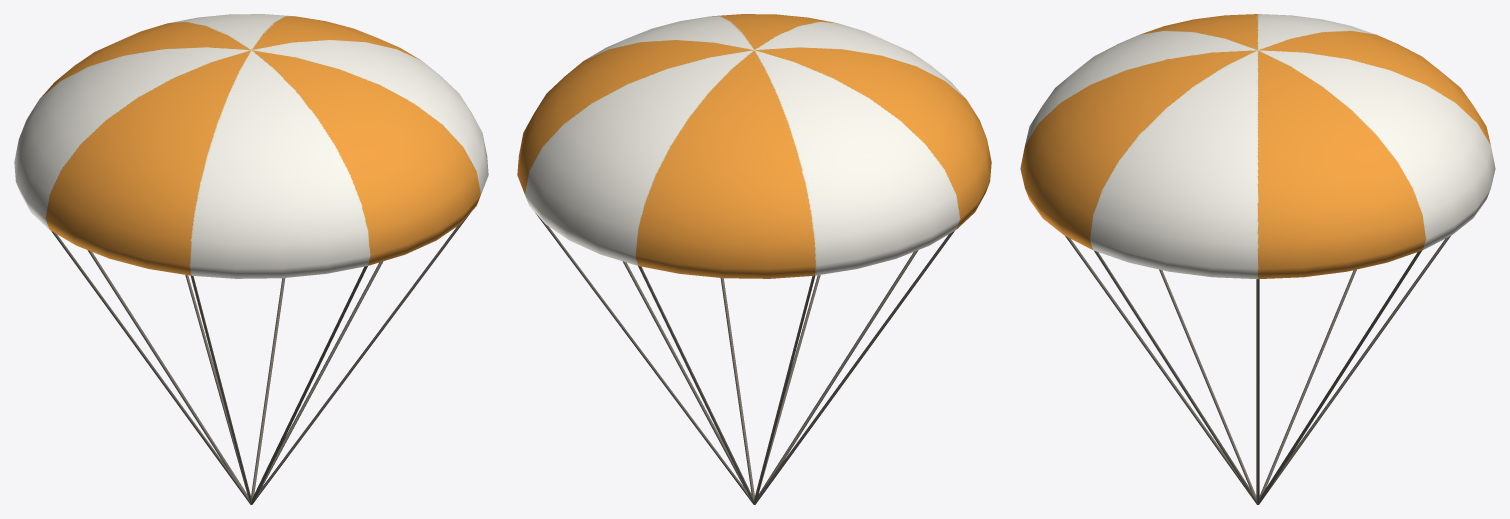
The model's file is parachute.glb.
3 renders of one model, left to right at view 1: azimuth 30°, elevation 25°; view 2: azimuth 150°, elevation 25°; view 3: azimuth 270°, elevation 25°, orthographic.
Visible parts, largest first — view 1: parachute; view 2: parachute; view 3: parachute.
Boxes of the visible parts, x1,y1,x2,y2 form: parachute: (14, 14, 488, 504); parachute: (517, 14, 991, 504); parachute: (1020, 14, 1495, 504).
Size of the model in its own units: 1.8 by 1.9 by 1.8.
Materials: 1 (1 with a texture image).
